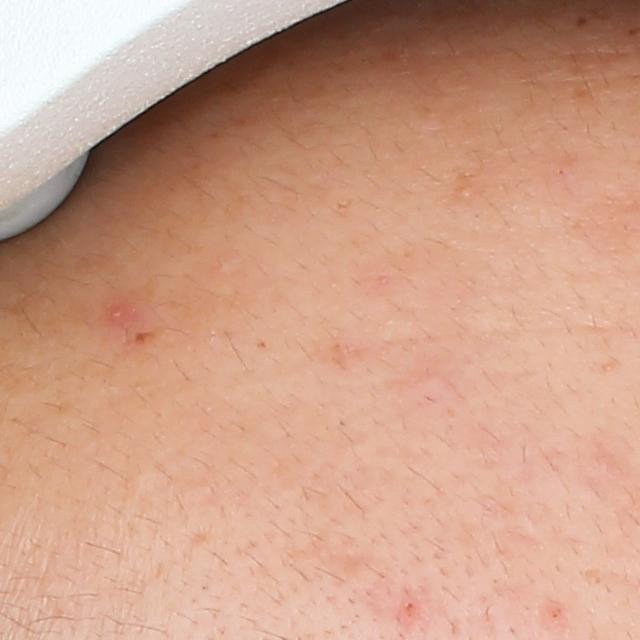papule: (106, 308, 131, 328)
